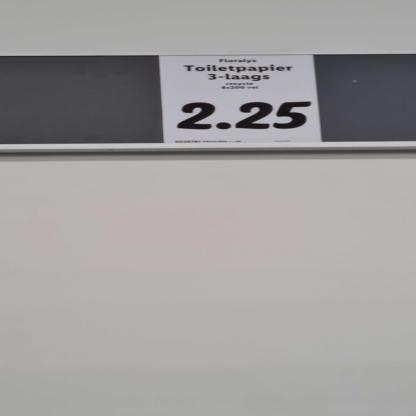prtg: (159, 56, 323, 144)
